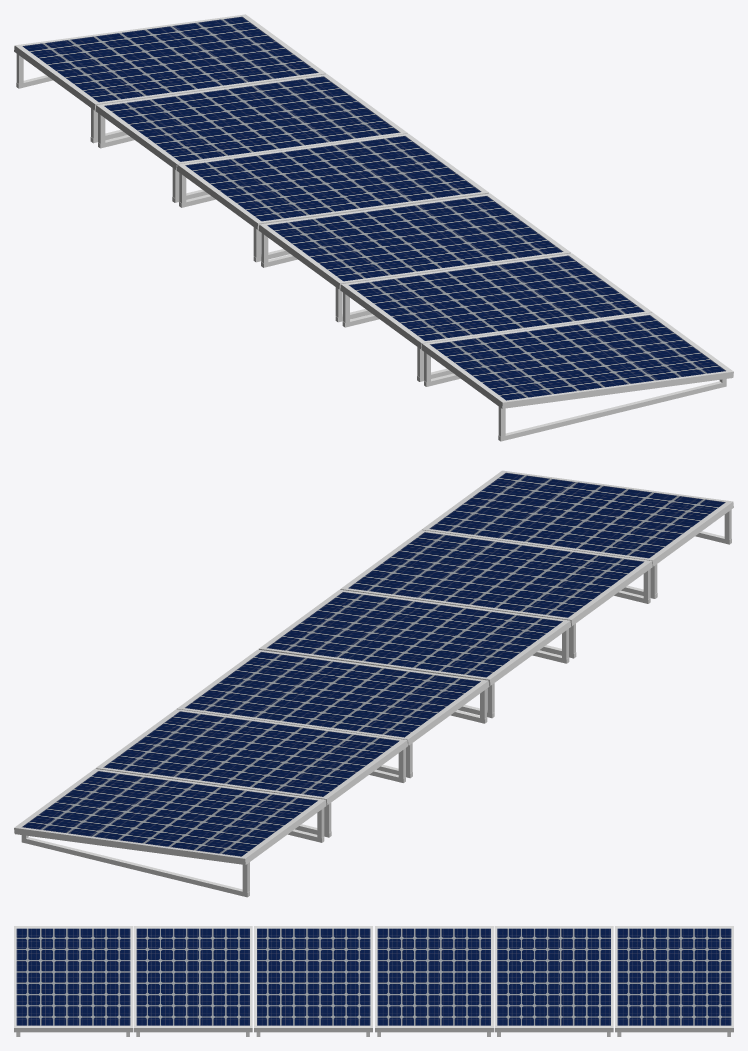
File: dmpv.glb
3 renders of one model, top to bottom at view 1: azimuth 30°, elevation 25°; view 2: azimuth 150°, elevation 25°; view 3: azimuth 270°, elevation 25°, orthographic. The views are drawn at different scales.
Visible parts, largest first — view 1: SUPORTE.003; view 2: SUPORTE.003; view 3: SUPORTE.003.
Boxes of the visible parts, x1,y1,x2,y2 form: SUPORTE.003: [14, 14, 733, 441]; SUPORTE.003: [14, 470, 733, 897]; SUPORTE.003: [14, 926, 733, 1036].
Size of the model in its own units: 3.29 by 0.544 by 12.
3 materials, 1 textured.
